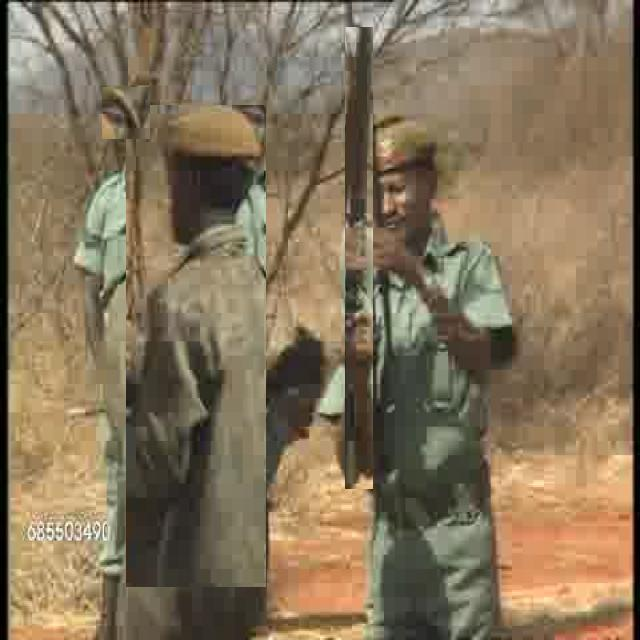poacher: (341, 128, 498, 636), (126, 105, 266, 587), (102, 87, 150, 139)
weapon: (346, 27, 374, 489)
